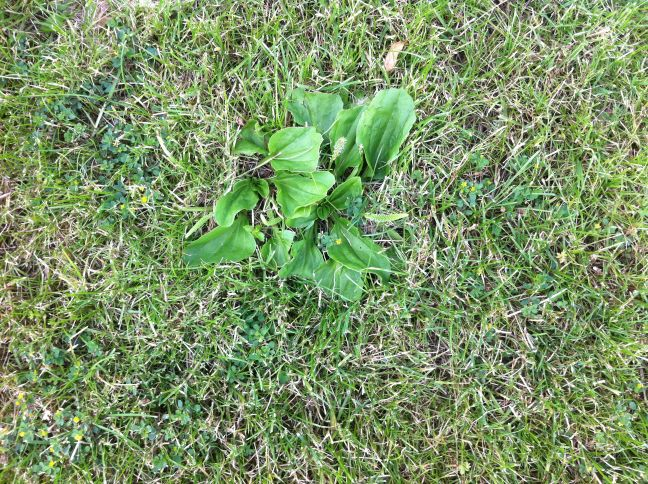weed1: (179, 83, 419, 307)
